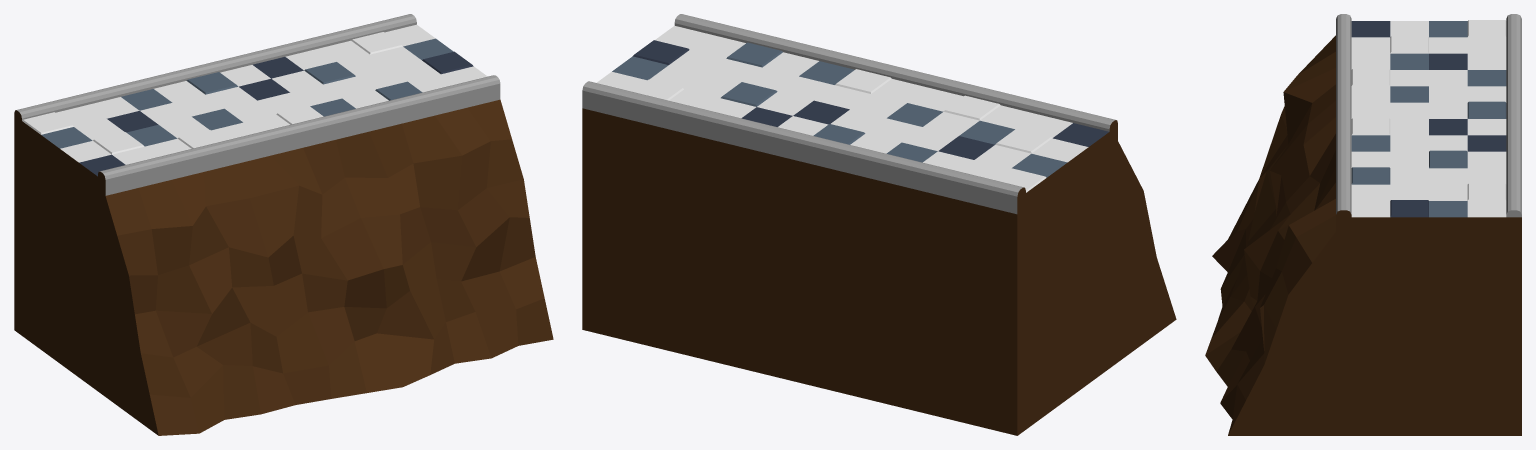
The model's file is road_lineX2.fbx.
3 renders of one model, left to right at view 1: azimuth 30°, elevation 25°; view 2: azimuth 150°, elevation 25°; view 3: azimuth 270°, elevation 25°, orthographic. The views are drawn at different scales.
Parts seen in each view (by area): view 1: road_lineX2; view 2: road_lineX2; view 3: road_lineX2.
Boxes of the visible parts, x1=… form: road_lineX2: x1=14, y1=14, x2=553, y2=435; road_lineX2: x1=582, y1=14, x2=1176, y2=435; road_lineX2: x1=1205, y1=14, x2=1521, y2=435.
Size of the model in its own units: 600 by 322 by 409.
